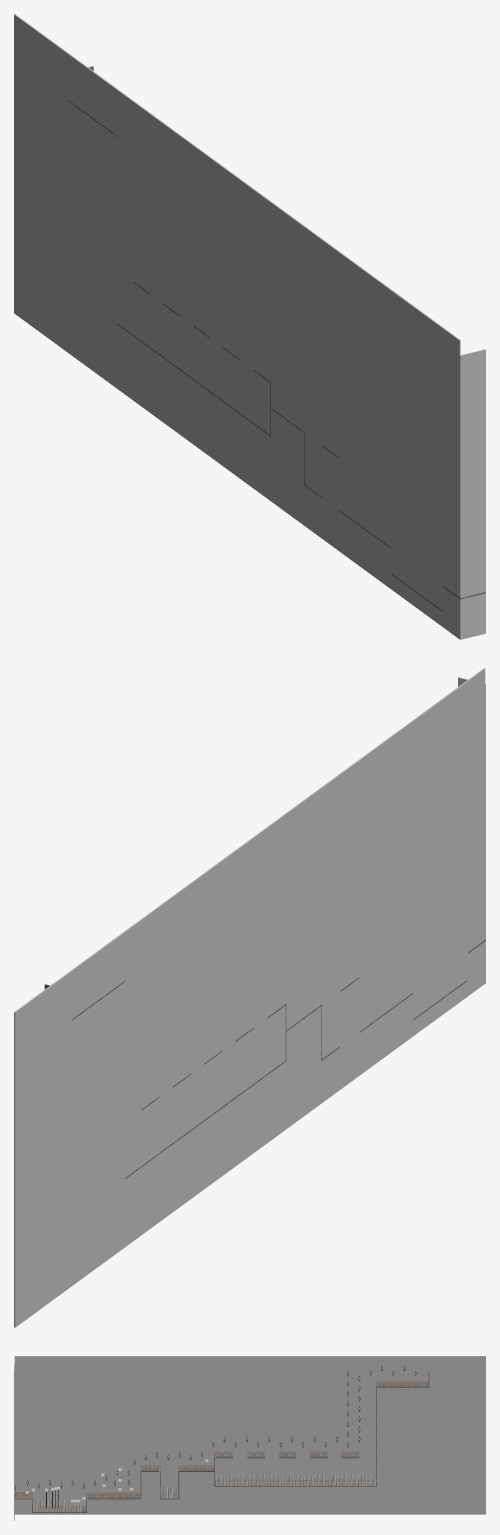
The model's file is LevelScaledRebuilded.fbx.
3 renders of one model, top to bottom at view 1: azimuth 30°, elevation 25°; view 2: azimuth 150°, elevation 25°; view 3: azimuth 270°, elevation 25°, orthographic. The views are drawn at different scales.
Visible parts, largest first — view 1: Cube, Cube.050, Cube.047, Cube.046, Cube.048, Cube.049; view 2: Cube; view 3: Cube, Cube.052.
Boxes of the visible parts, box(x1,y1,x2,y2) form: Cube: box(14, 14, 460, 638); Cube.050: box(459, 349, 485, 396); Cube.047: box(459, 511, 485, 557); Cube.046: box(459, 471, 485, 517); Cube.048: box(459, 430, 485, 476); Cube.049: box(459, 390, 485, 436); Cube: box(14, 668, 485, 1327); Cube: box(14, 1356, 485, 1514); Cube.052: box(215, 1479, 375, 1486).
Bounding box in the file's own units: 839 × 28.03 × 310.
